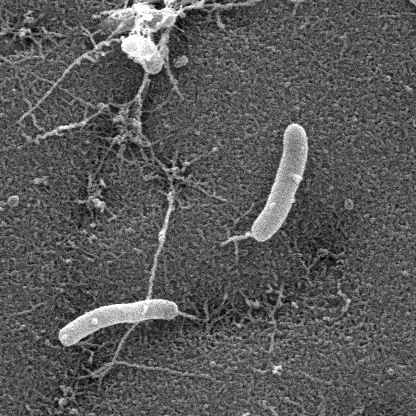cell2surface: (144, 174, 184, 298), (218, 233, 257, 250)
regular: (251, 124, 308, 241), (58, 300, 182, 344)
